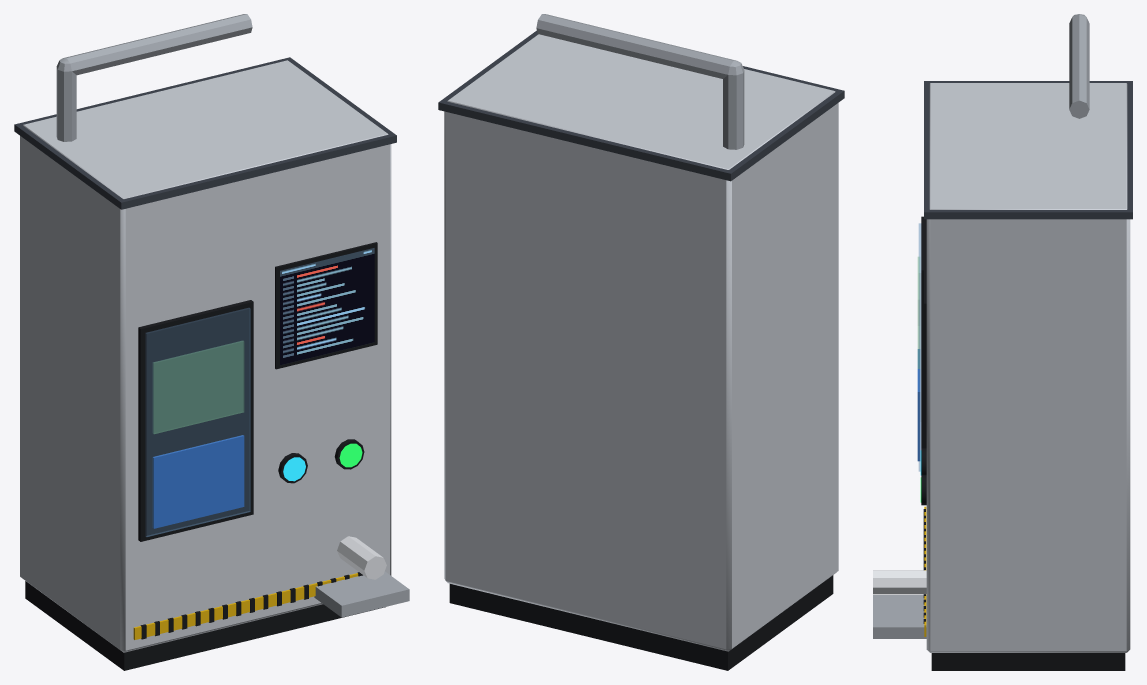
The model's file is watertank_water_recycler.glb.
3 renders of one model, left to right at view 1: azimuth 30°, elevation 25°; view 2: azimuth 150°, elevation 25°; view 3: azimuth 270°, elevation 25°, orthographic. The views are drawn at different scales.
Parts seen in each view (by area): view 1: watertank_water_recycler; view 2: watertank_water_recycler; view 3: watertank_water_recycler.
Boxes of the visible parts, x1,y1,x2,y2 form: watertank_water_recycler: (14, 14, 409, 670); watertank_water_recycler: (438, 14, 844, 670); watertank_water_recycler: (873, 14, 1132, 670).
Size of the model in its own units: 1.22 by 2.34 by 1.02.
Materials: 12 (1 with a texture image).
